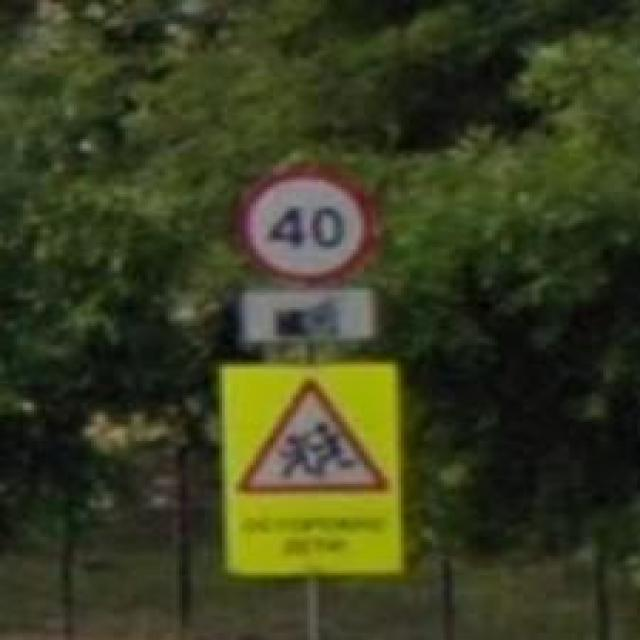Ograniczenie predkosci do 40: (238, 165, 376, 283)
